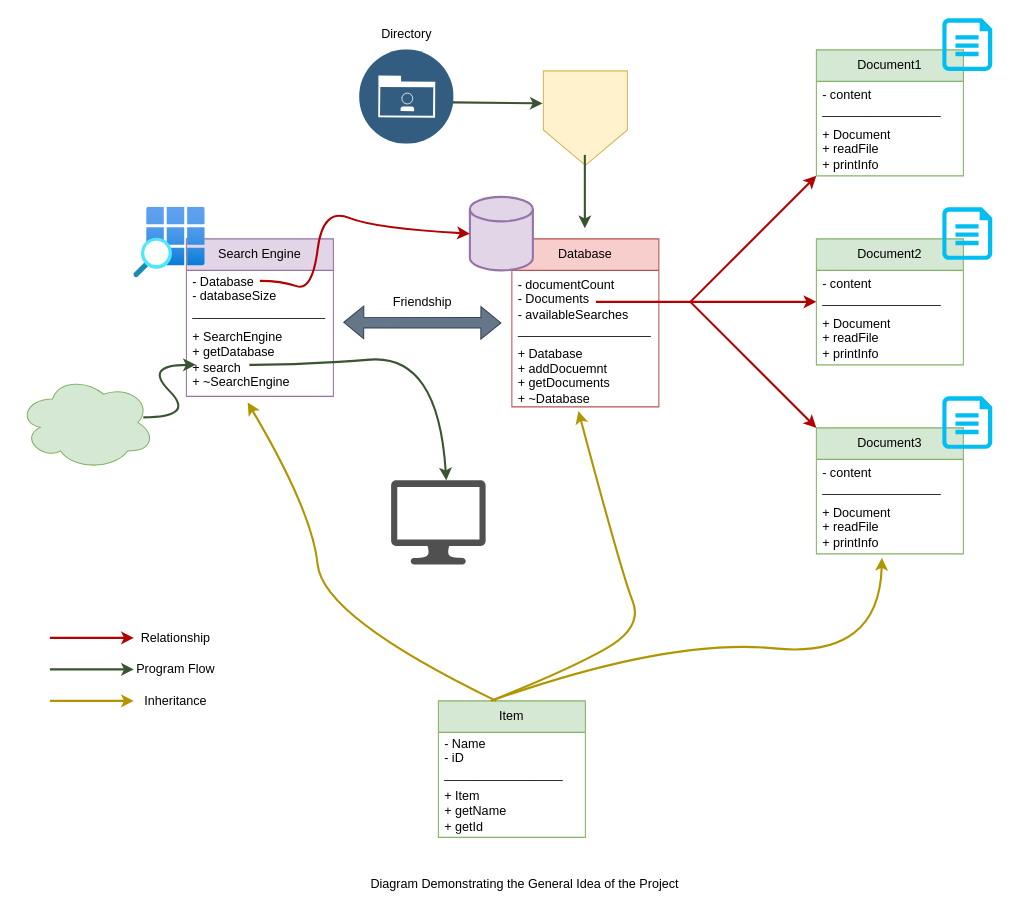
This 1010x918 diagram has some shape labels left out. Here are the shapes that lost their labels. From the top down, the centre of each, then its label:
At point 584,117: "Populate Database Function".
At point 86,422: "searchPrompt".
At point 438,522: "Search Result".
